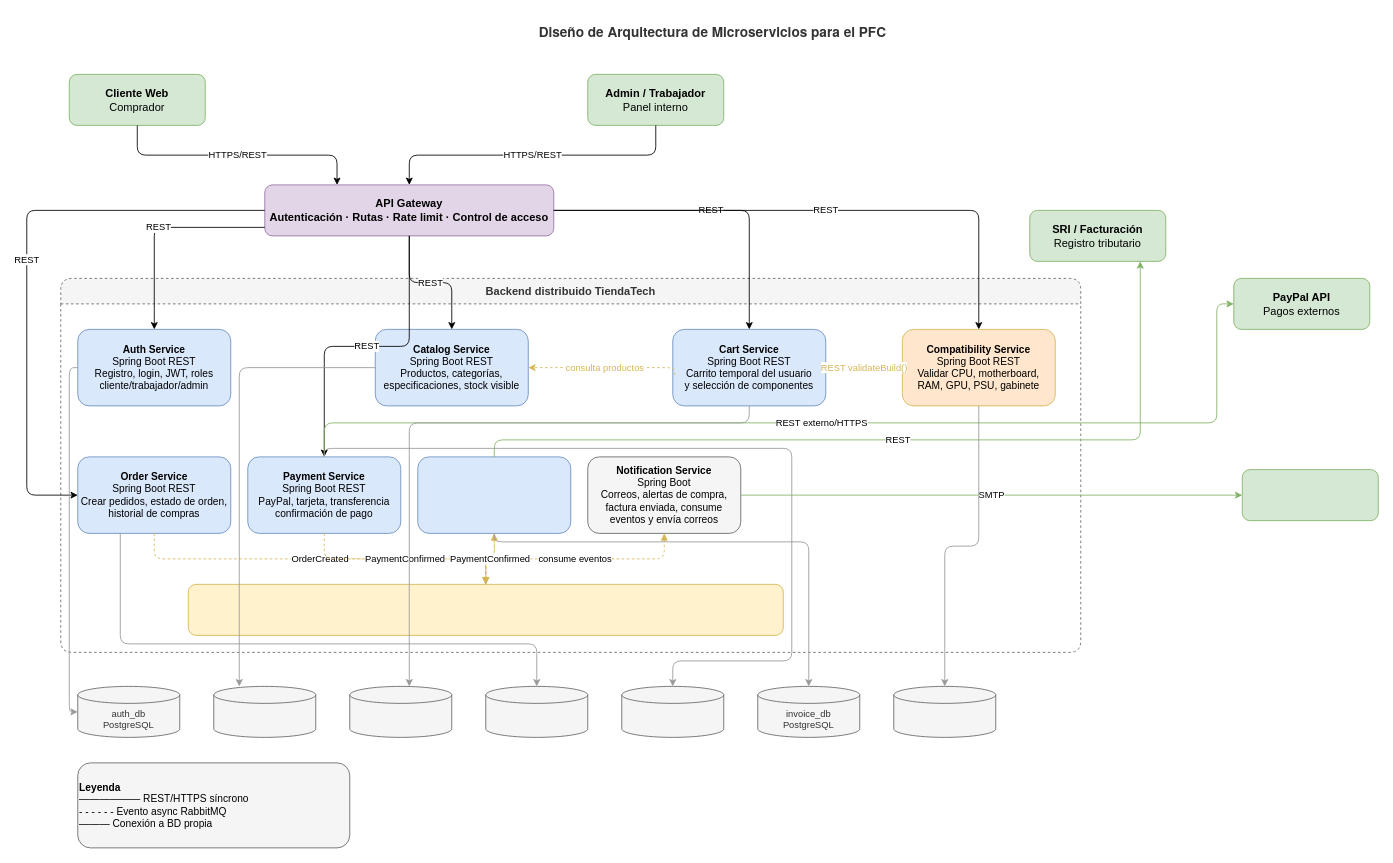
The diagram is 1393 pixels wide and 863 high, and some of its shapes have lost their labels. The centre of each missing label's shape, as x and y in pixels:
cart_db PostgreSQL: point (400, 711)
catalog_db PostgreSQL: point (264, 711)
Invoice Service Spring Boot Generación factura electrónica y registro tributario: point (494, 494)
Message Broker — RabbitMQ OrderCreated · PaymentConfirmed · InvoiceGenerated: point (485, 609)
order_db PostgreSQL: point (536, 711)
payment_db PostgreSQL: point (672, 711)
rules_db PostgreSQL: point (944, 711)
SMTP Service Envío de emails: point (1309, 495)
